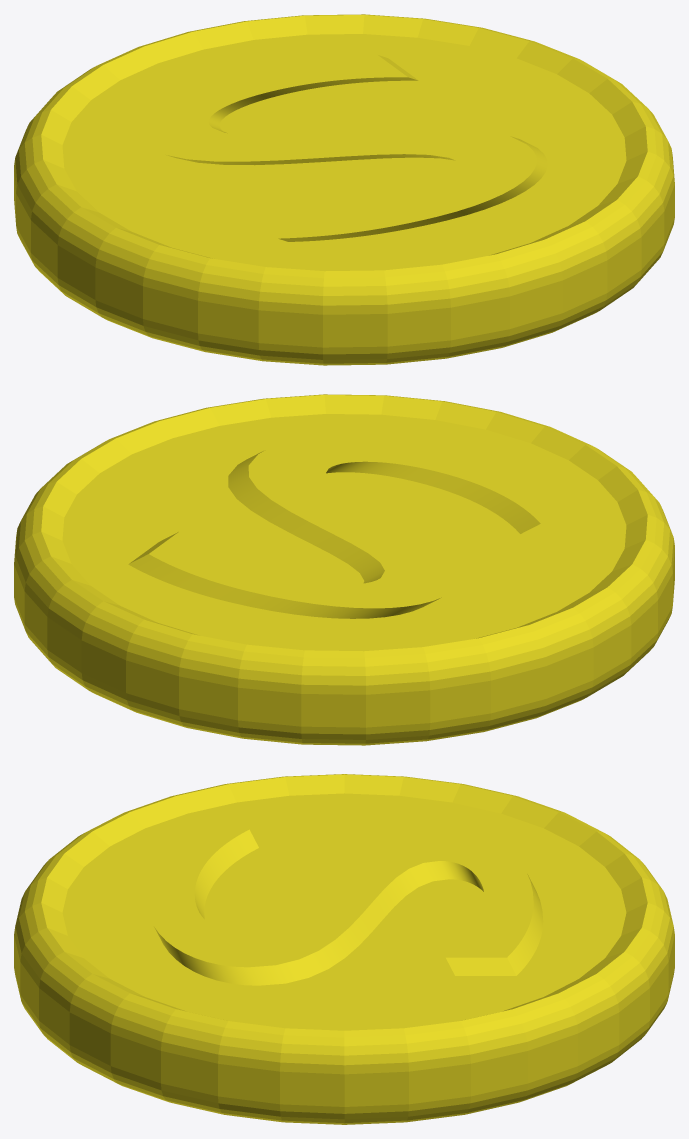
The model's file is shrimpy_coin.fbx.
3 renders of one model, top to bottom at view 1: azimuth 30°, elevation 25°; view 2: azimuth 150°, elevation 25°; view 3: azimuth 270°, elevation 25°, orthographic.
Visible parts, largest first — view 1: Coin; view 2: Coin; view 3: Coin.
Part boxes in pixels (x1,y1,x2,y2): Coin: [14, 14, 674, 365]; Coin: [14, 394, 674, 745]; Coin: [14, 774, 674, 1124].
Size of the model in its own units: 2 by 0.31 by 2.
